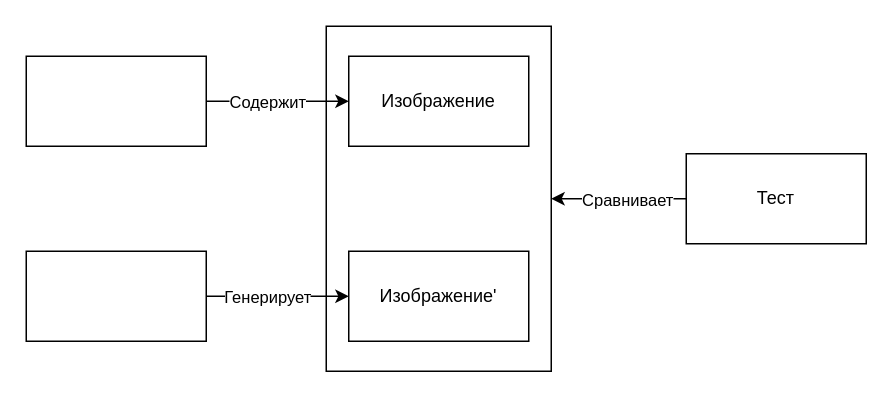
Image size: 893x398. Some labels were removed from this diagram. Each missing label, with the centre of its shape:
UI: the point at 115,295
Эталон: the point at 115,100
